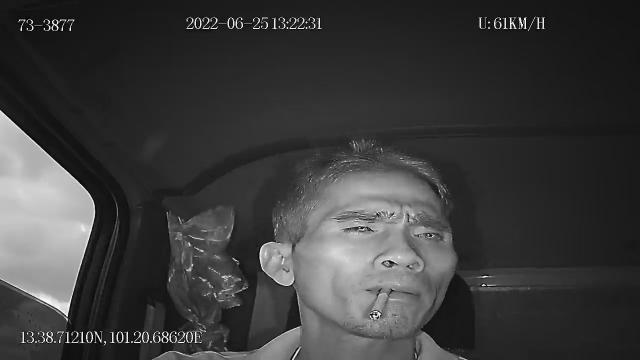SafeDriving: (337, 216, 382, 240), (405, 222, 451, 244)
Smoking: (370, 286, 390, 322)
